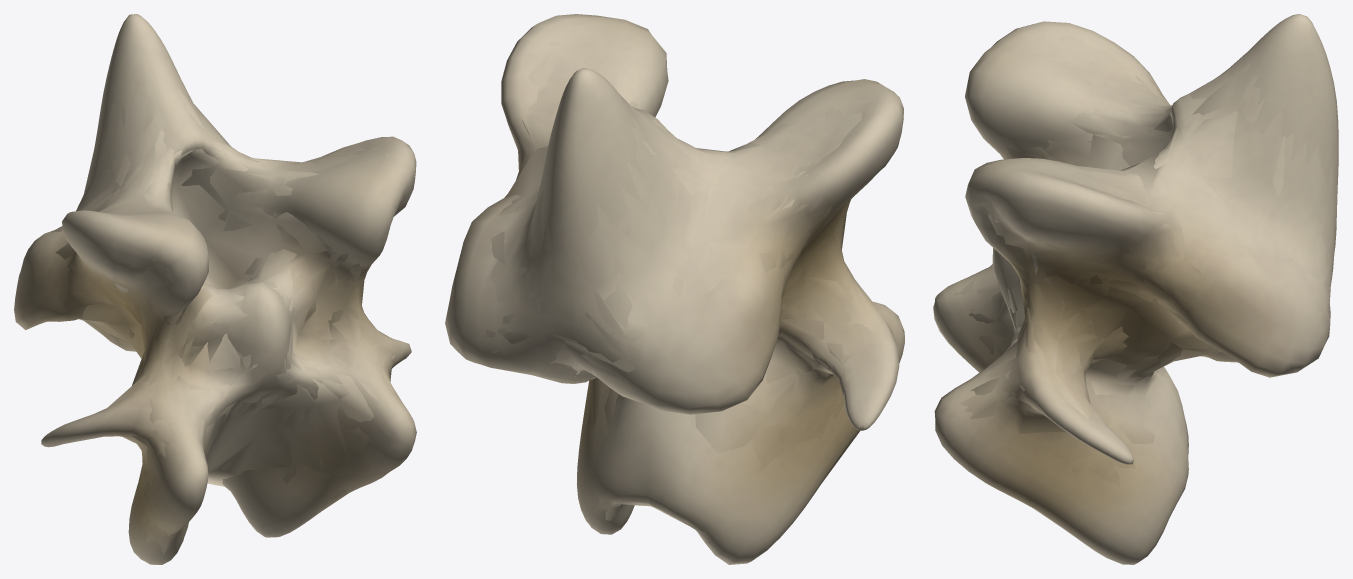
Rendered from vertebra cervicalis 5.fbx.
3 views of the same model, side by side, from view 1: azimuth 30°, elevation 25°; view 2: azimuth 150°, elevation 25°; view 3: azimuth 270°, elevation 25° (orthographic). The views are drawn at different scales.
Visible parts, largest first — view 1: vertebra cervicalis 5 high, vertebra cervicalis 5 low, vertebra cervicalis 5; view 2: vertebra cervicalis 5 high, vertebra cervicalis 5, vertebra cervicalis 5 low; view 3: vertebra cervicalis 5 high, vertebra cervicalis 5, vertebra cervicalis 5 low.
Part boxes in pixels (x1,y1,x2,y2): vertebra cervicalis 5 high: (14,14,416,564); vertebra cervicalis 5 low: (51,84,394,534); vertebra cervicalis 5: (34,61,403,554); vertebra cervicalis 5 high: (445,14,904,564); vertebra cervicalis 5: (486,22,883,540); vertebra cervicalis 5 low: (491,57,874,525); vertebra cervicalis 5 high: (933,14,1338,564); vertebra cervicalis 5: (954,34,1336,526); vertebra cervicalis 5 low: (968,76,1330,444).
Size of the model in its own units: 5.86 by 7.64 by 5.41.
Materials: 1 (1 with a texture image).
